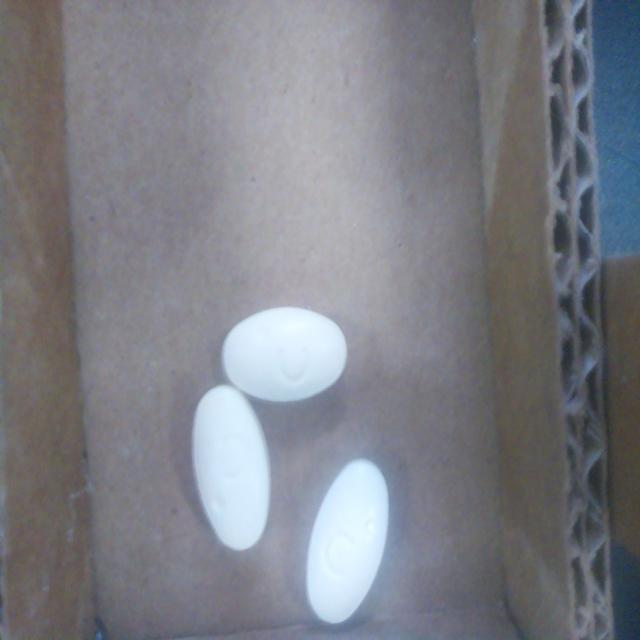pill: (306, 459, 388, 624), (192, 385, 270, 550), (222, 307, 347, 402)
